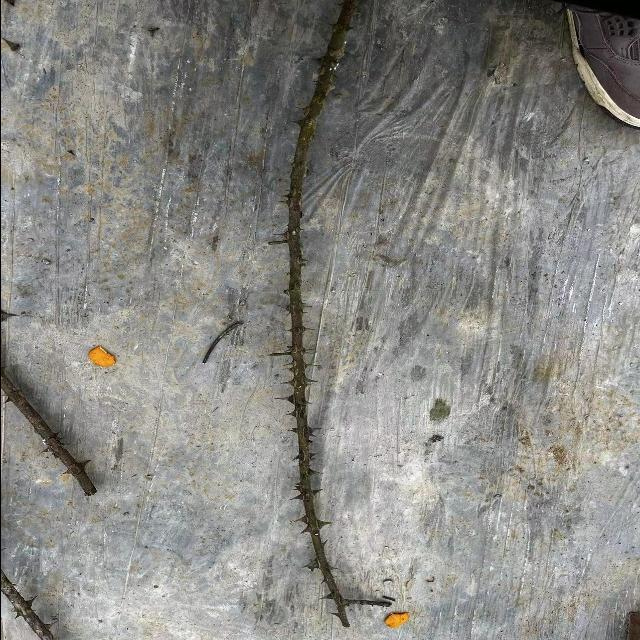branch: (284, 0, 352, 620)
